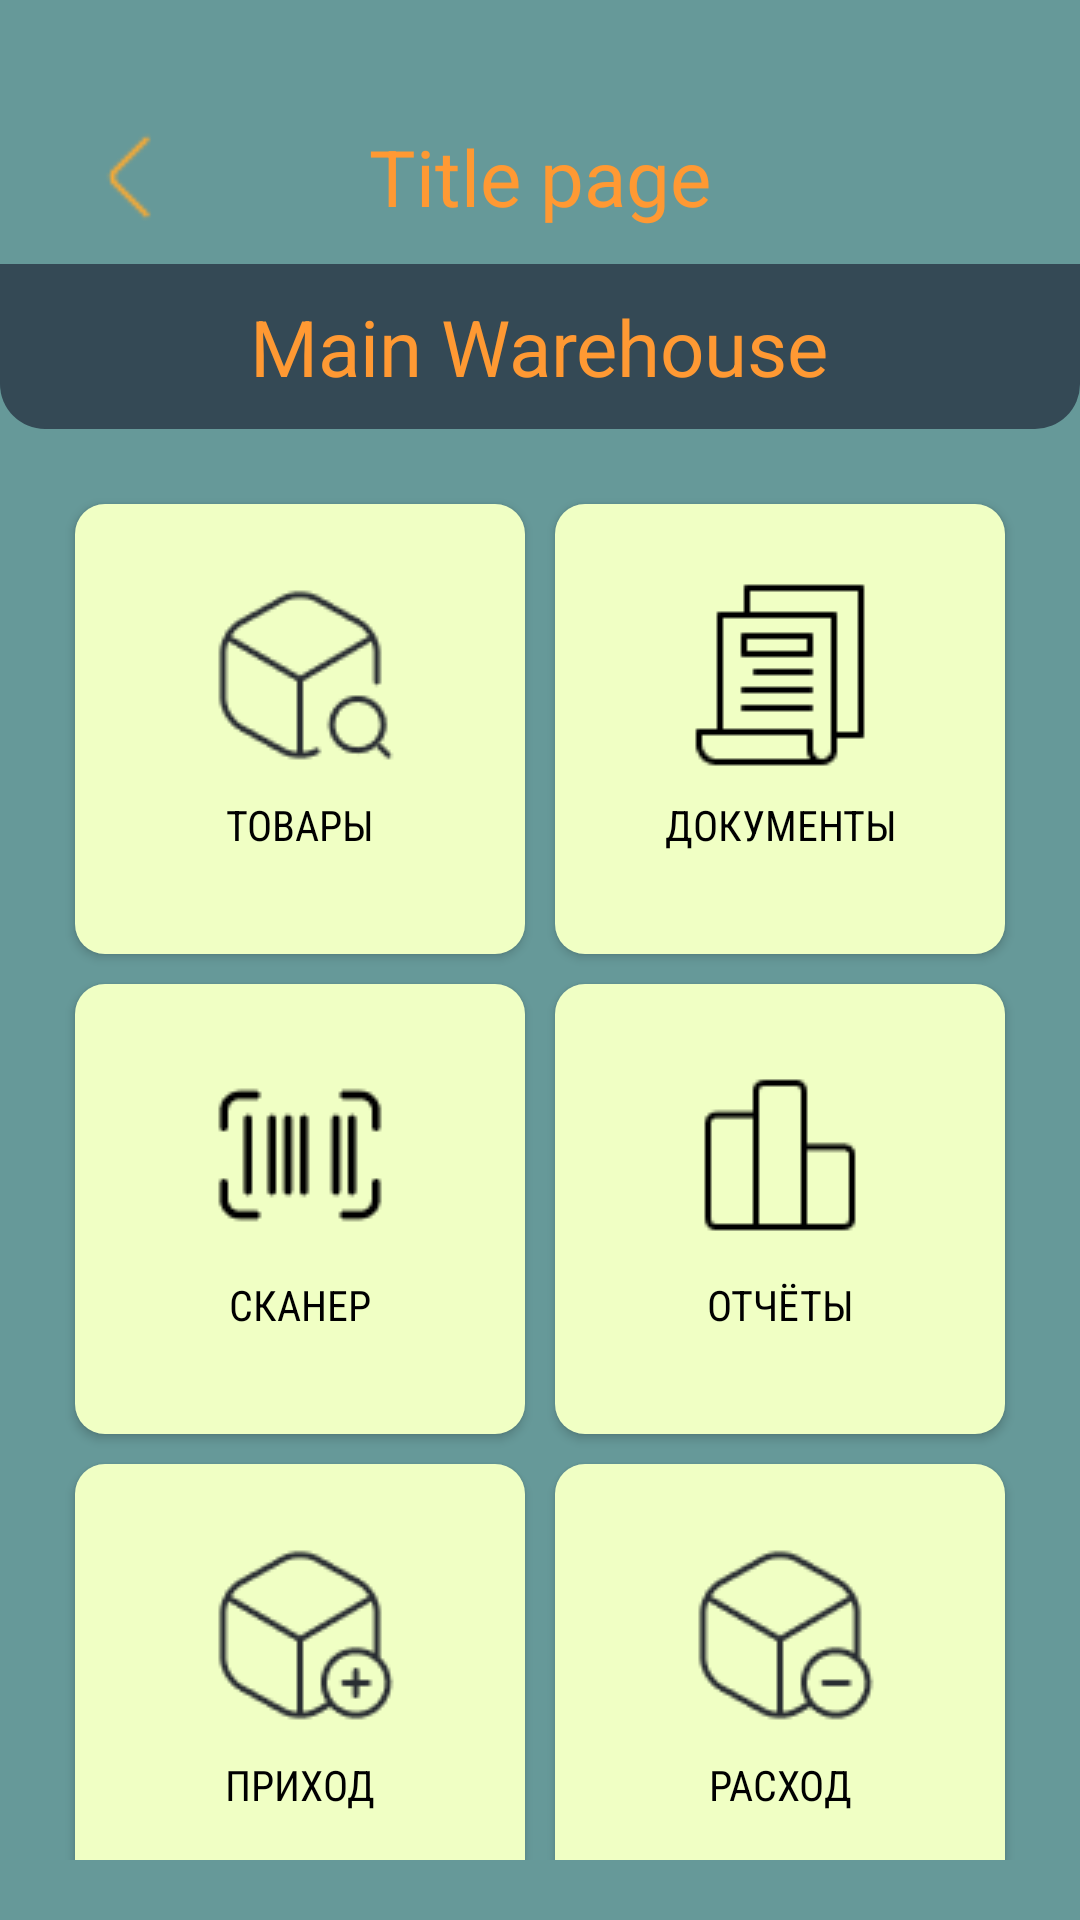

Where icons sit on this 1080 x 1920 app screen, as (x1, y1, x2, y2):
return: (108, 136, 151, 218)
